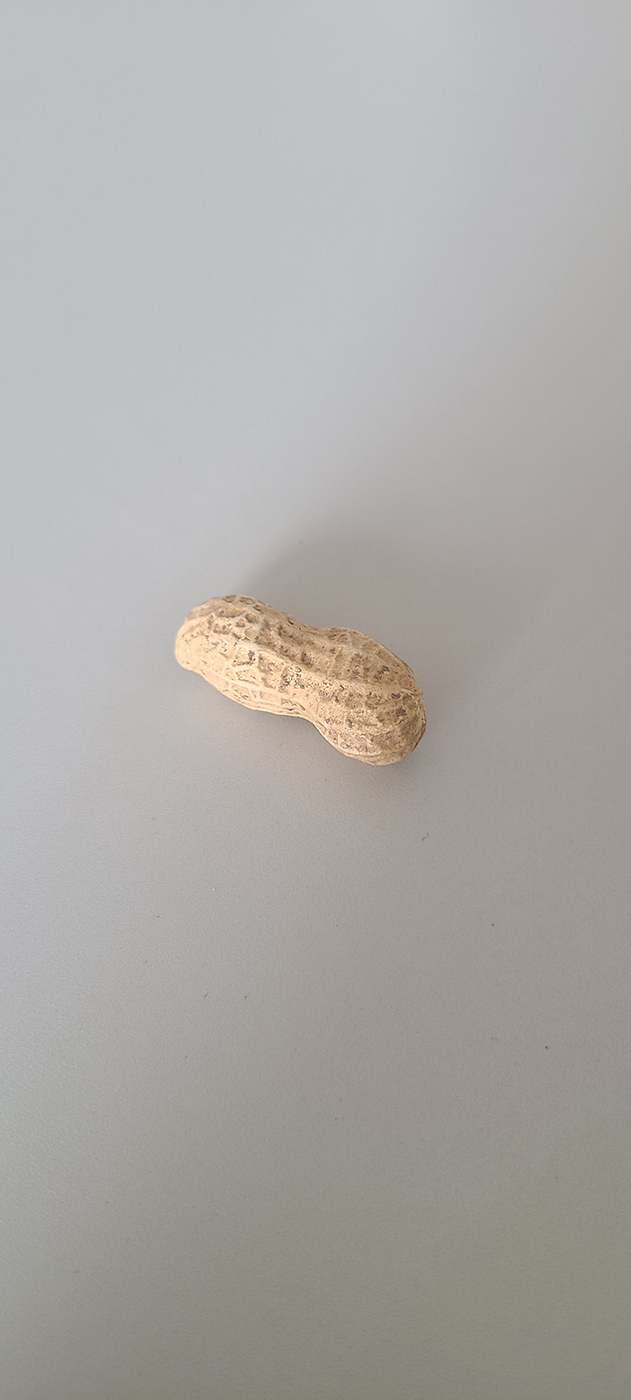h: (170, 593, 429, 766)
